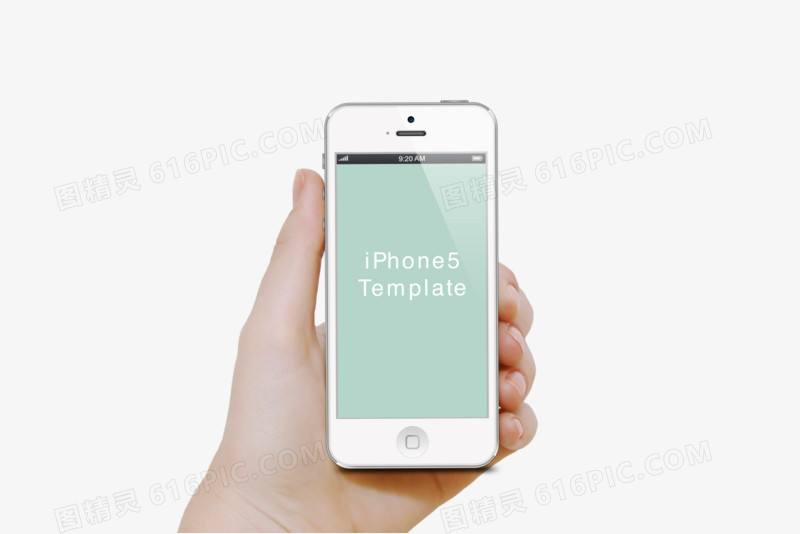phone: (233, 96, 548, 513)
